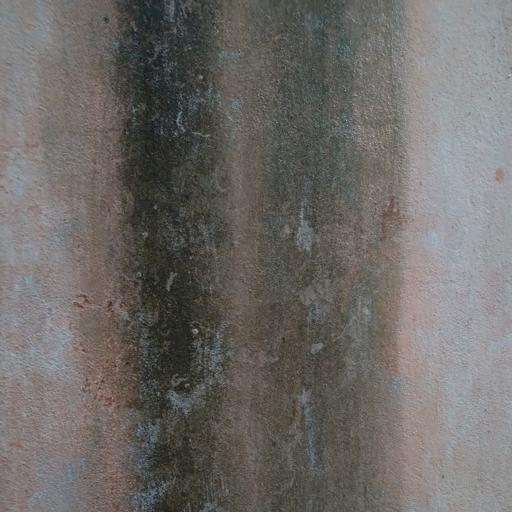algae: (58, 0, 417, 496)
